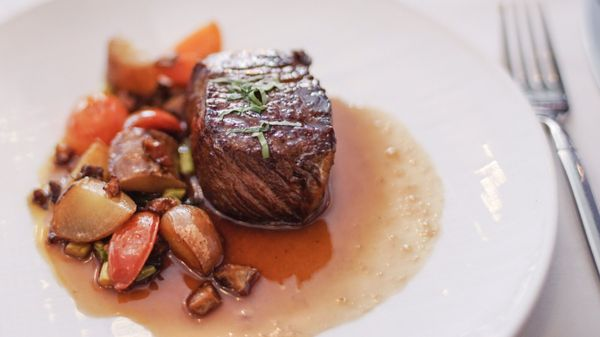burger: (497, 2, 600, 283)
